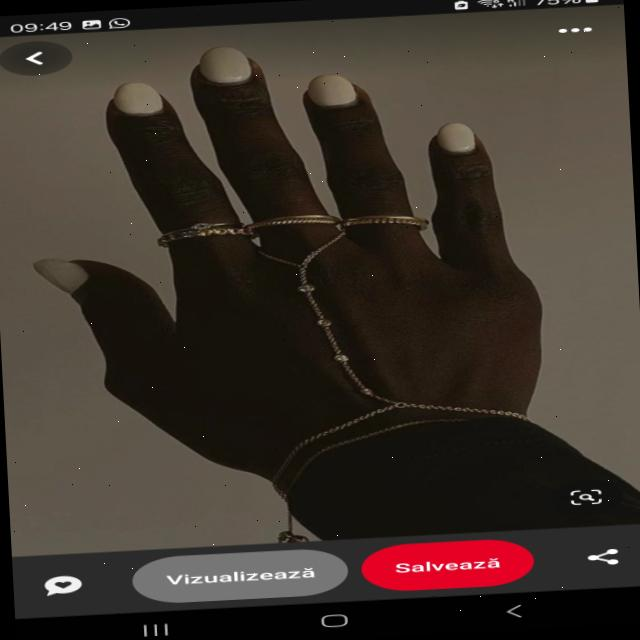hands: (9, 18, 611, 536)
